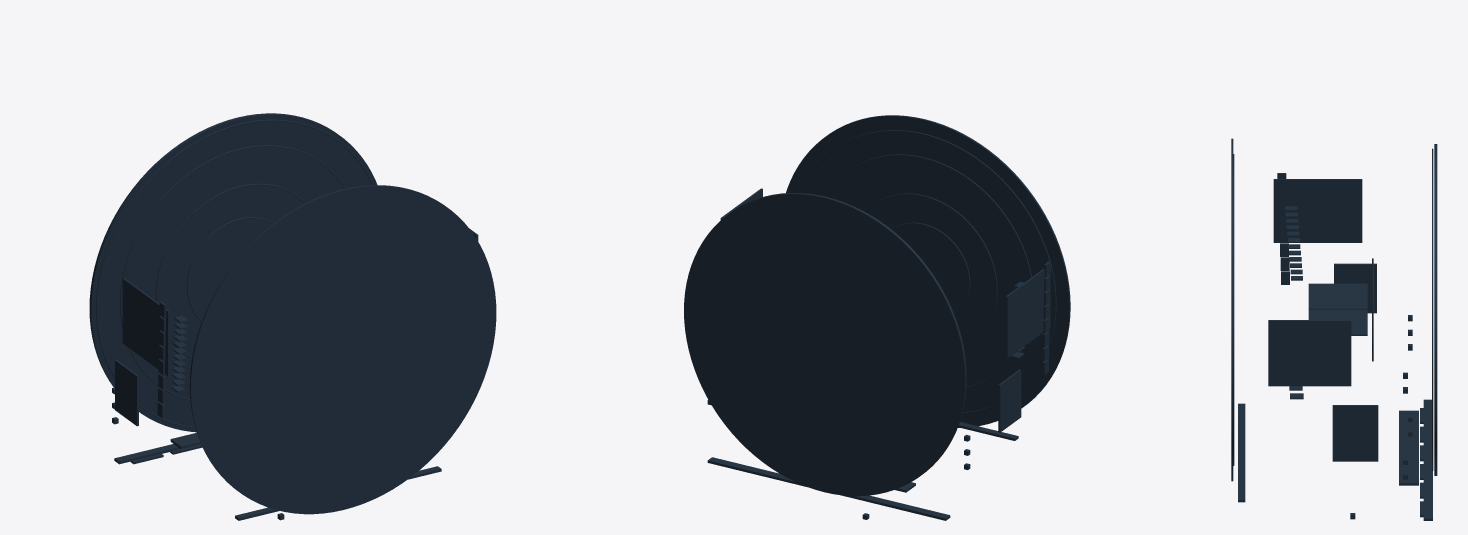
File: 07_document_intelligence_vault.glb
3 renders of one model, left to right at view 1: azimuth 30°, elevation 25°; view 2: azimuth 150°, elevation 25°; view 3: azimuth 270°, elevation 25°, orthographic. The views are drawn at different scales.
Parts seen in each view (by area): view 1: 07_document_intelligence_vault__ceiling_dark_disc, 07_document_intelligence_vault__circular_command_floor_black, 07_document_intelligence_vault__UI_left_primary_panel, 07_document_intelligence_vault__floor_emissive_cyan_ring_rad (×2), 07_document_intelligence_vault__UI_left_secondary_panel; view 2: 07_document_intelligence_vault__circular_command_floor_black, 07_document_intelligence_vault__ceiling_dark_disc, 07_document_intelligence_vault__UI_left_primary_panel, 07_document_intelligence_vault__UI_bottom_active_context_rai, 07_document_intelligence_vault__UI_left_secondary_panel, 07_document_intelligence_vault__ceiling_light_ring_radius_5., 07_document_intelligence_vault__ceiling_light_ring_radius_4.; view 3: 07_document_intelligence_vault__UI_right_primary_panel, 07_document_intelligence_vault__UI_left_primary_panel, 07_document_intelligence_vault__UI_right_secondary_panel, 07_document_intelligence_vault__HERO_LEFT_DOCUMENT_PAGE_TEXT, 07_document_intelligence_vault__UI_bottom_command_dock, 07_document_intelligence_vault__circular_command_floor_black, 07_document_intelligence_vault__UI_left_secondary_panel, 07_document_intelligence_vault__UI_bottom_active_context_rai, 07_document_intelligence_vault__ceiling_dark_disc, 07_document_intelligence_vault__HERO_RIGHT_DOCUMENT_PAGE_TEX, 07_document_intelligence_vault__UI_top_nav_holographic_rail, 07_document_intelligence_vault__floor_emissive_cyan_ring_rad (+1 smaller).
Boxes of the visible parts, <box> form: 07_document_intelligence_vault__ceiling_dark_disc: <box>189,185,496,514</box>; 07_document_intelligence_vault__circular_command_floor_black: <box>89,113,377,432</box>; 07_document_intelligence_vault__UI_left_primary_panel: <box>122,278,169,376</box>; 07_document_intelligence_vault__floor_emissive_cyan_ring_rad (×2): <box>96,119,372,427</box>; 07_document_intelligence_vault__UI_left_secondary_panel: <box>115,359,138,426</box>; 07_document_intelligence_vault__circular_command_floor_black: <box>684,193,966,496</box>; 07_document_intelligence_vault__ceiling_dark_disc: <box>786,115,1070,427</box>; 07_document_intelligence_vault__UI_left_primary_panel: <box>1005,268,1050,358</box>; 07_document_intelligence_vault__UI_bottom_active_context_rai: <box>707,457,950,520</box>; 07_document_intelligence_vault__UI_left_secondary_panel: <box>998,369,1021,432</box>; 07_document_intelligence_vault__ceiling_light_ring_radius_5.: <box>800,130,1056,413</box>; 07_document_intelligence_vault__ceiling_light_ring_radius_4.: <box>826,154,1031,388</box>; 07_document_intelligence_vault__UI_right_primary_panel: <box>1268,320,1351,386</box>; 07_document_intelligence_vault__UI_left_primary_panel: <box>1273,179,1362,242</box>; 07_document_intelligence_vault__UI_right_secondary_panel: <box>1332,405,1378,461</box>; 07_document_intelligence_vault__HERO_LEFT_DOCUMENT_PAGE_TEXT: <box>1308,283,1367,309</box>; 07_document_intelligence_vault__UI_bottom_command_dock: <box>1399,410,1418,485</box>; 07_document_intelligence_vault__circular_command_floor_black: <box>1434,144,1437,475</box>; 07_document_intelligence_vault__UI_left_secondary_panel: <box>1334,263,1376,313</box>; 07_document_intelligence_vault__UI_bottom_active_context_rai: <box>1423,399,1432,520</box>; 07_document_intelligence_vault__ceiling_dark_disc: <box>1231,138,1233,481</box>; 07_document_intelligence_vault__HERO_RIGHT_DOCUMENT_PAGE_TEX: <box>1308,309,1367,335</box>; 07_document_intelligence_vault__UI_top_nav_holographic_rail: <box>1238,403,1245,502</box>; 07_document_intelligence_vault__floor_emissive_cyan_ring_rad: <box>1432,148,1433,471</box>.
Size of the model in its own units: 18 by 16.59 by 10.13.
